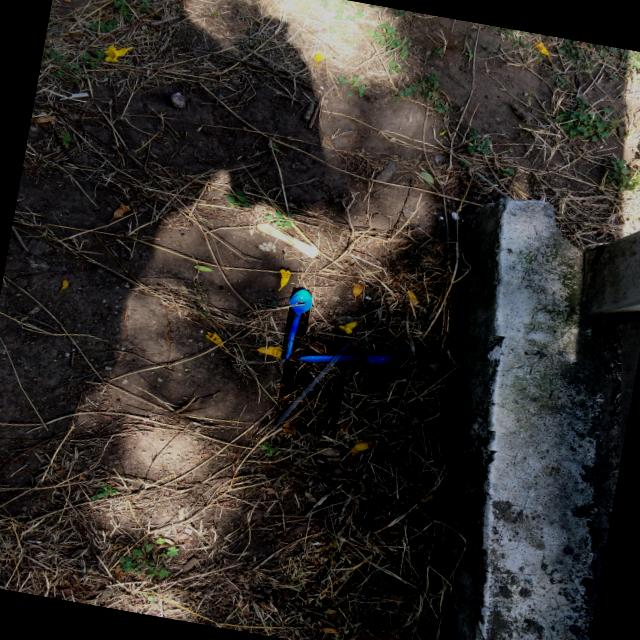Other container: (282, 290, 311, 359), (300, 354, 399, 367)
Straw: (274, 343, 351, 427)
Unlabeled litter: (257, 222, 318, 257)
